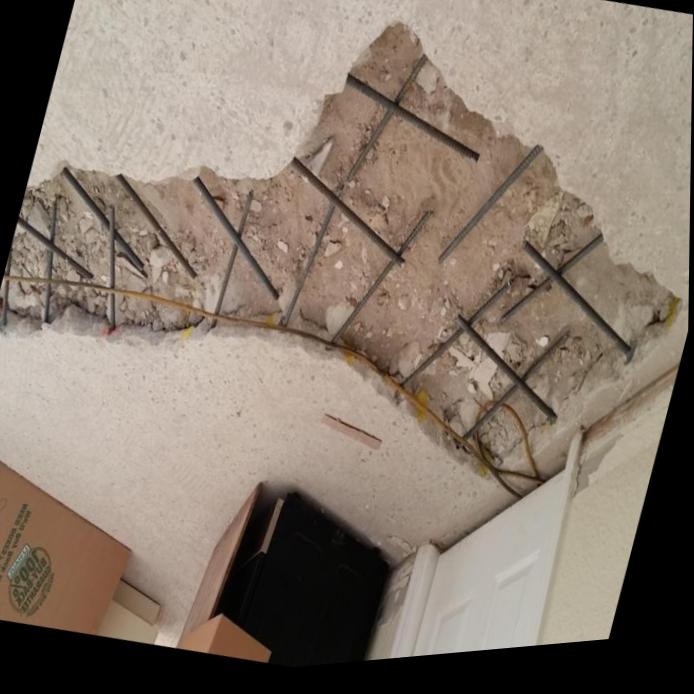damage: (0, 27, 683, 489)
